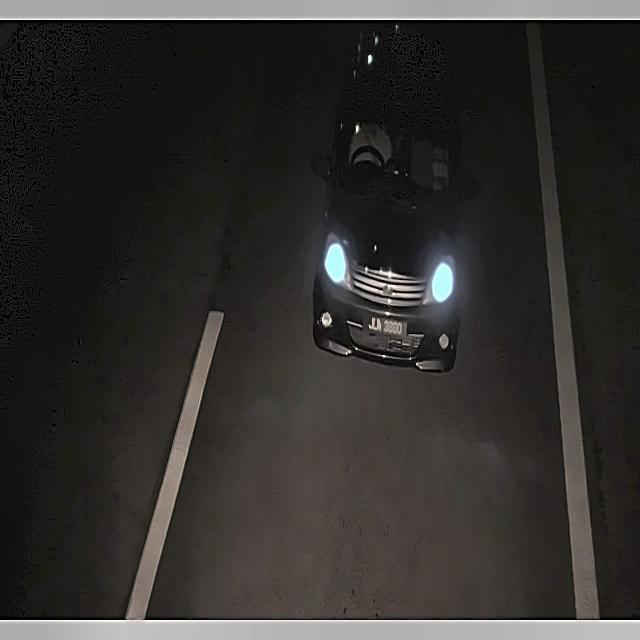car: (363, 311, 409, 345)
